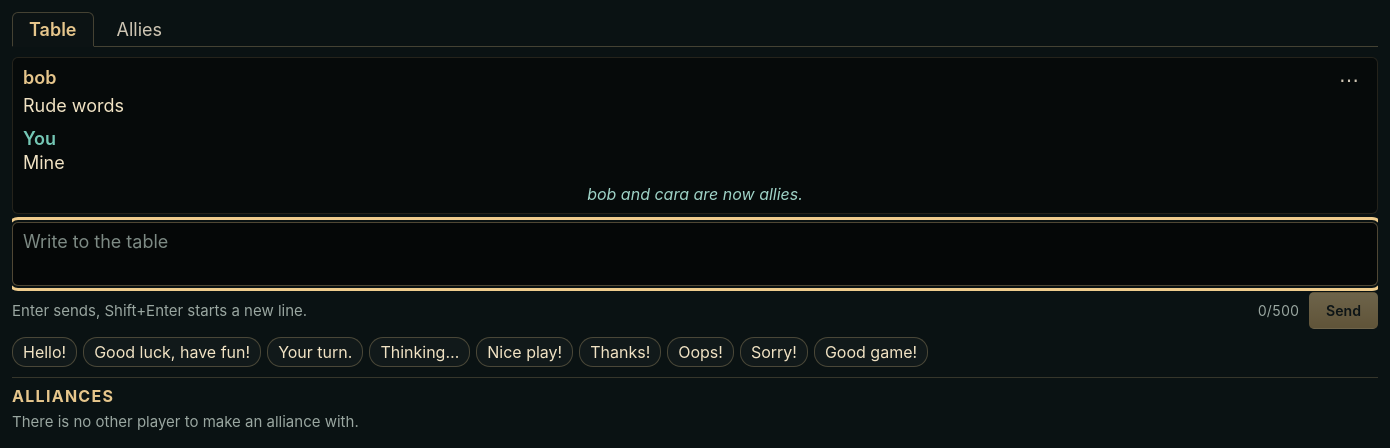
Test: the table's chat panel › reports another player's line from its menu, but not your own or an event
This screenshot has width=1390, height=448.
Click the button named "More for".
click(1349, 80)  # box x1=1331 y1=66 x2=1367 y2=94
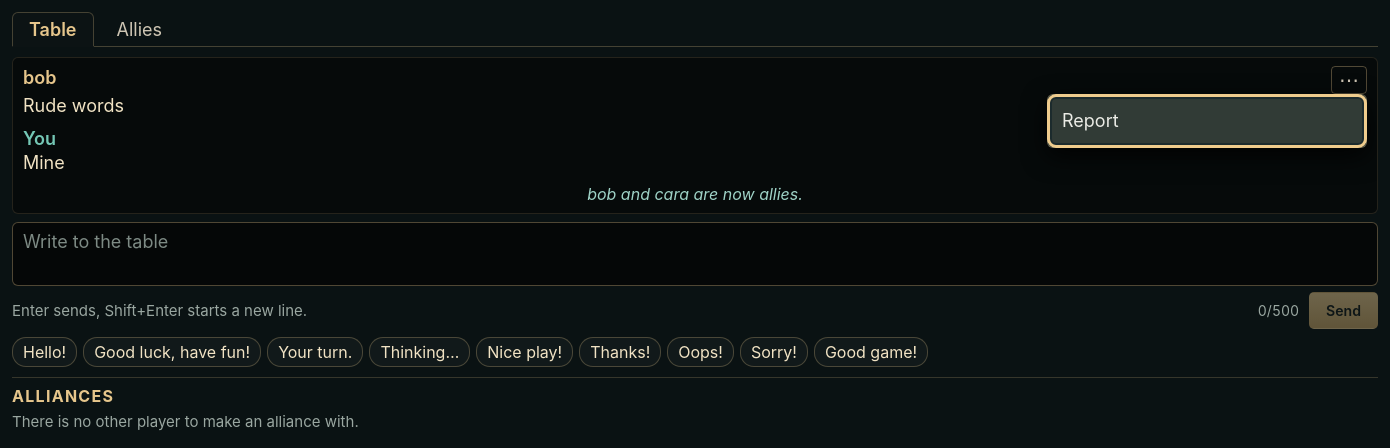
Click the menu item "Report".
click(1090, 121)  # box x1=1052 y1=99 x2=1362 y2=143
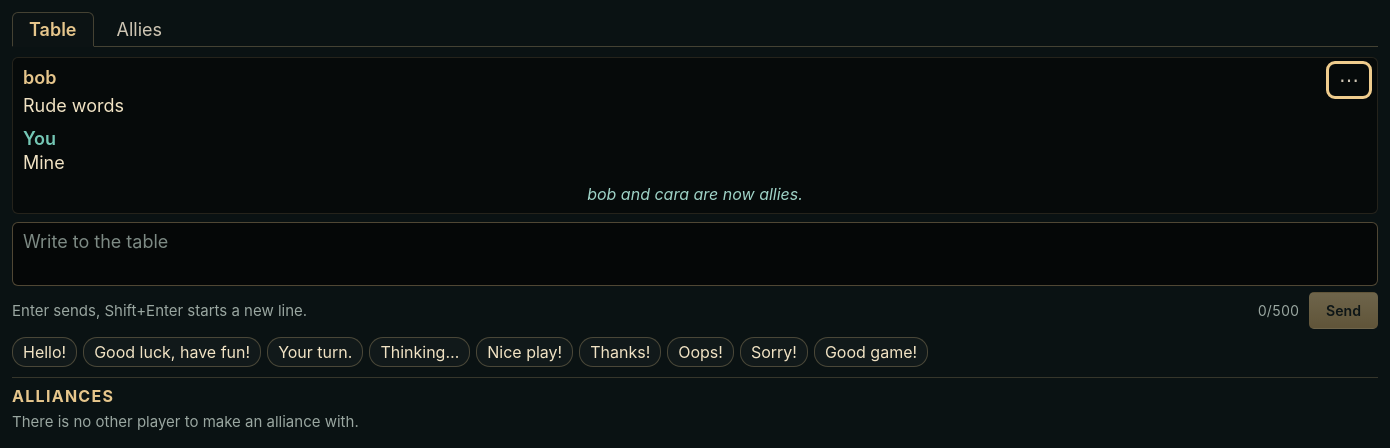
Result: the menu is gone
